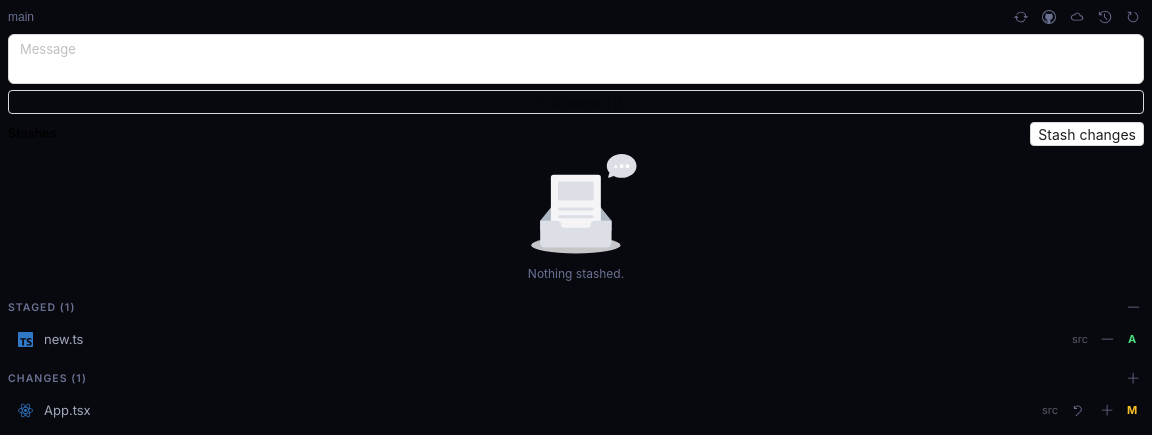
SourceControlPanel branches › lists the other branches, but not the current one
Check: the text "App.tsx" is shown, box [44,402,91,418]
What coordinates should you click on to do the following:
click the button with aria-label "Switch branch"
I would click on:
 (21, 17)
Its box is [8,6,1004,28].
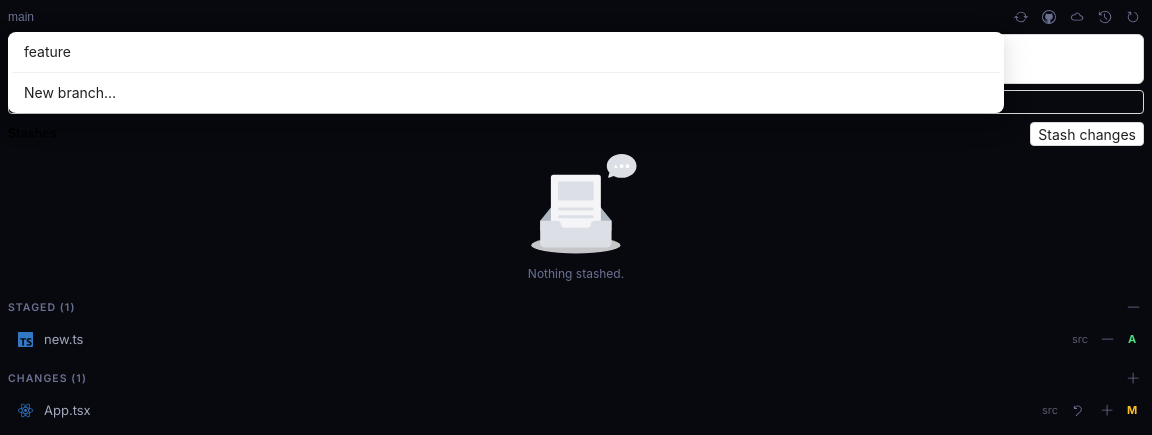
Check: the number of buttons "main" is 1, box [8,6,1004,28]
Check: the text "feature" is shown, box [24,43,71,60]
